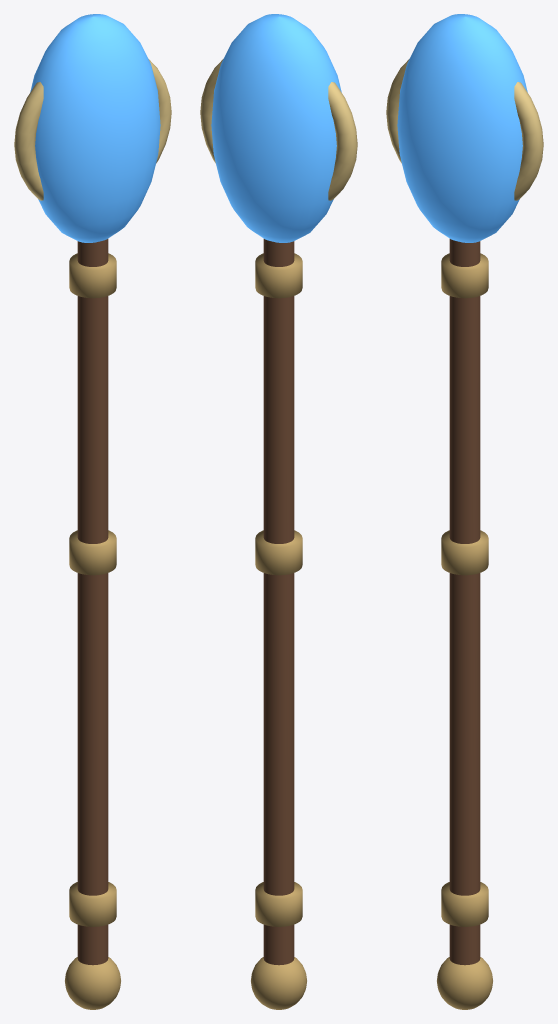
Rendered from Lyra_WaterFocus_REVIEW.glb.
3 views of the same model, side by side, from view 1: azimuth 30°, elevation 25°; view 2: azimuth 150°, elevation 25°; view 3: azimuth 330°, elevation 25° (orthographic).
Visible parts, largest first — view 1: WaterFocus; view 2: WaterFocus; view 3: WaterFocus.
Part boxes in pixels (bbox=[...]): WaterFocus: bbox=[14, 14, 171, 1009]; WaterFocus: bbox=[200, 14, 357, 1009]; WaterFocus: bbox=[386, 14, 543, 1009].
Bounding box in the file's own units: 0.152 × 0.93 × 0.094.
